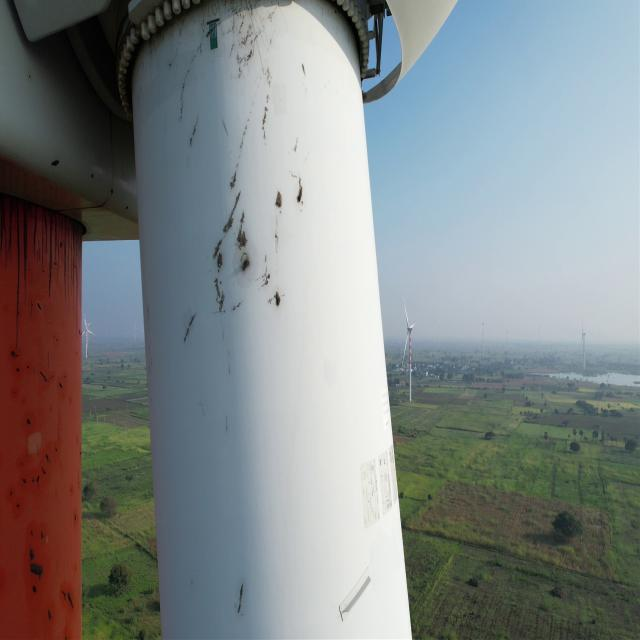Dirt: (164, 0, 312, 340), (230, 574, 250, 618)
Pin Hole: (208, 168, 310, 312)
